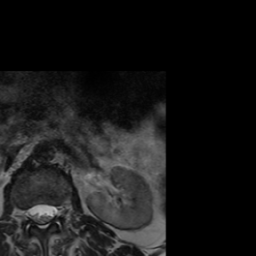CCS_normal: (37, 195, 45, 235)
LFS_normal: (55, 198, 64, 224)
LLS_normal: (45, 197, 55, 226)
RFS_normal: (19, 201, 27, 226)
RLS_normal: (27, 198, 37, 224)
